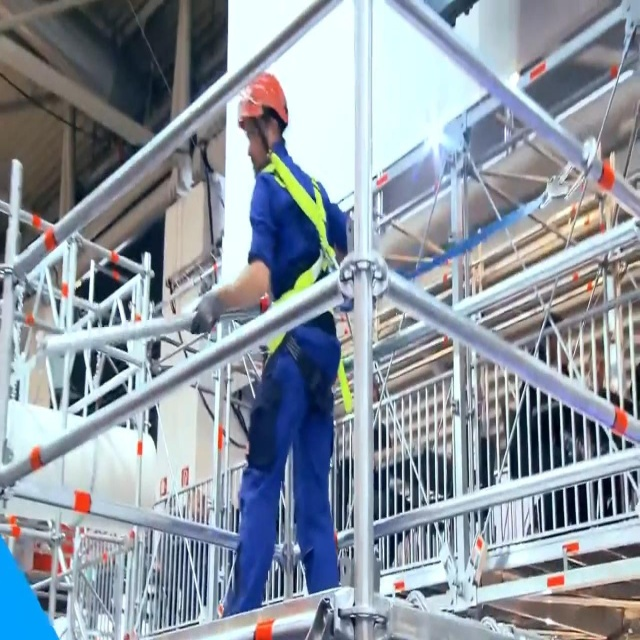Arnes_seguridad: (241, 152, 350, 429)
